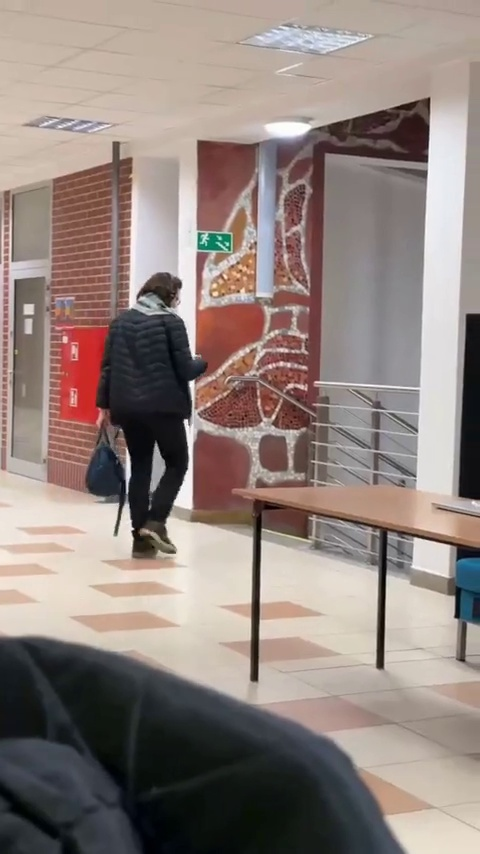no vest: (96, 268, 204, 554)
